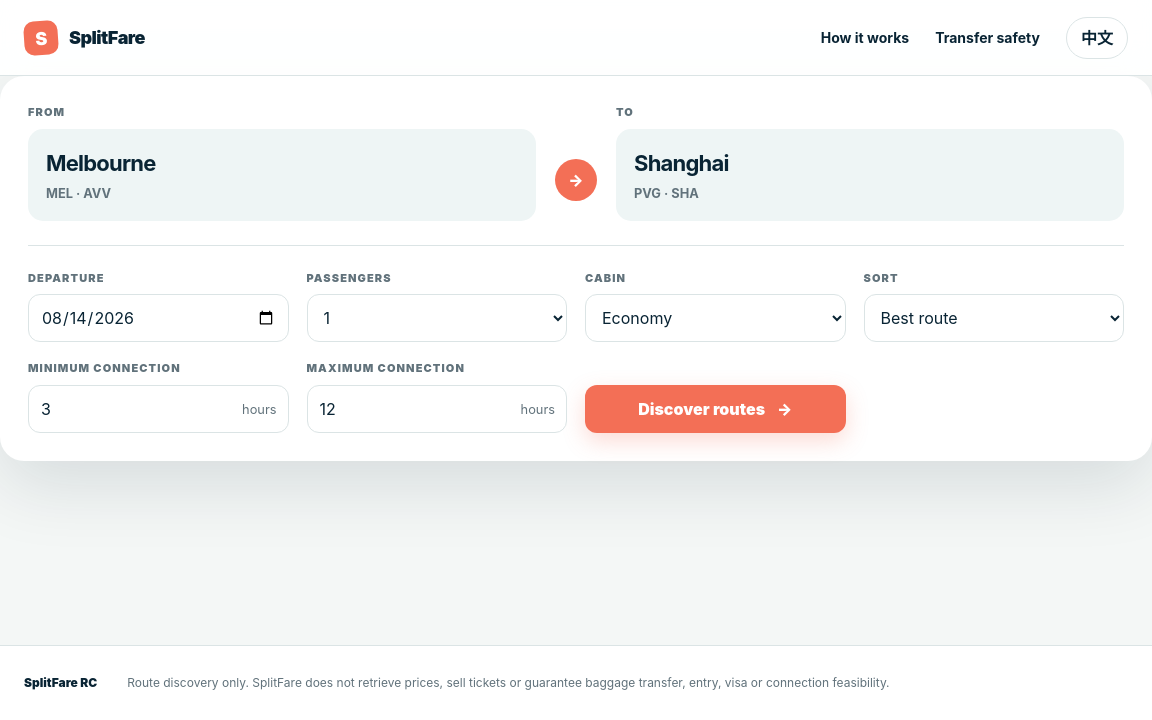
Test case: structured city search › keeps selected city ids when language changes
Expected: the button with aria-label "From: Melbourne" is shown, [28,128,536,221]
Click the button with aria-label "Switch language" at (1097,38), box [1066,16,1128,58]
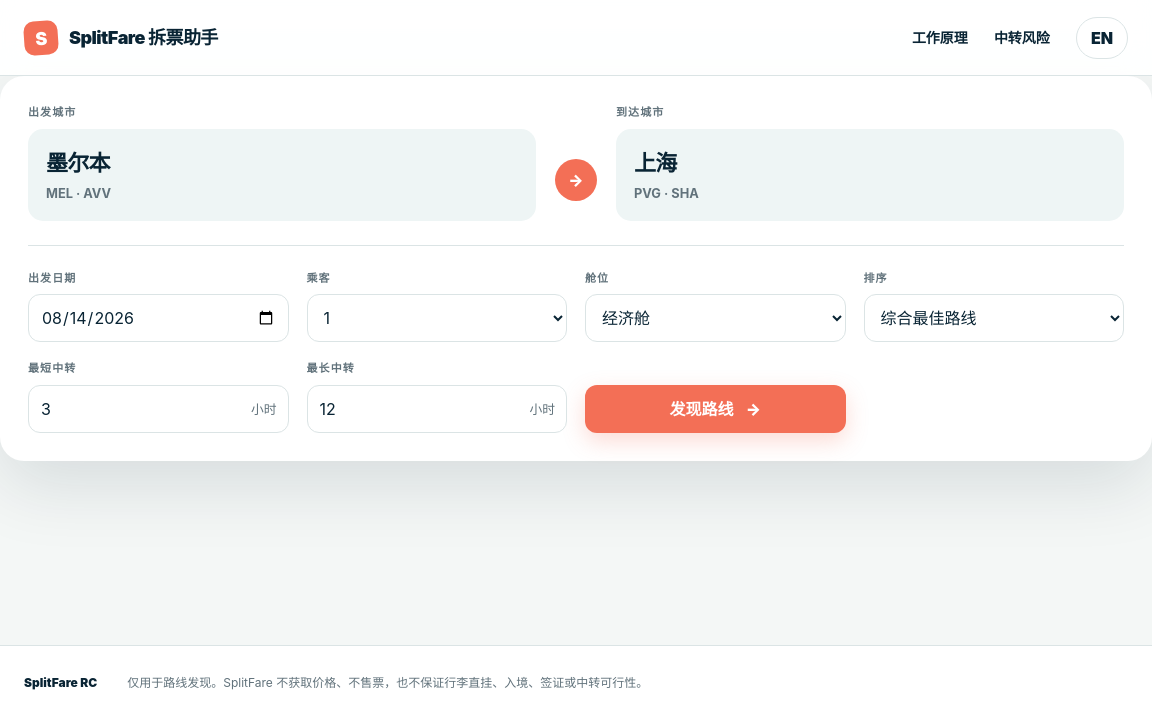
Expected: the form named "originCityId" holds "city:melbourne-au", [0,76,1151,461]
Expected: the button with aria-label "出发城市: 墨尔本" is shown, [28,128,536,221]
